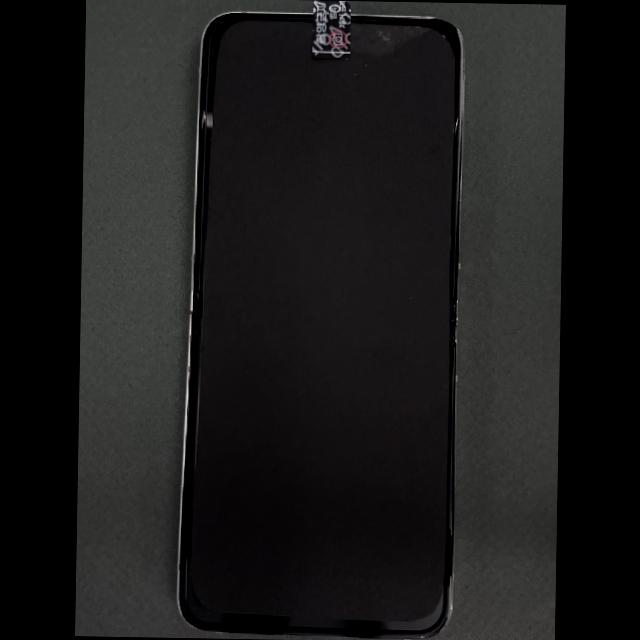phone: (175, 10, 465, 639)
sticker: (311, 0, 351, 59)
